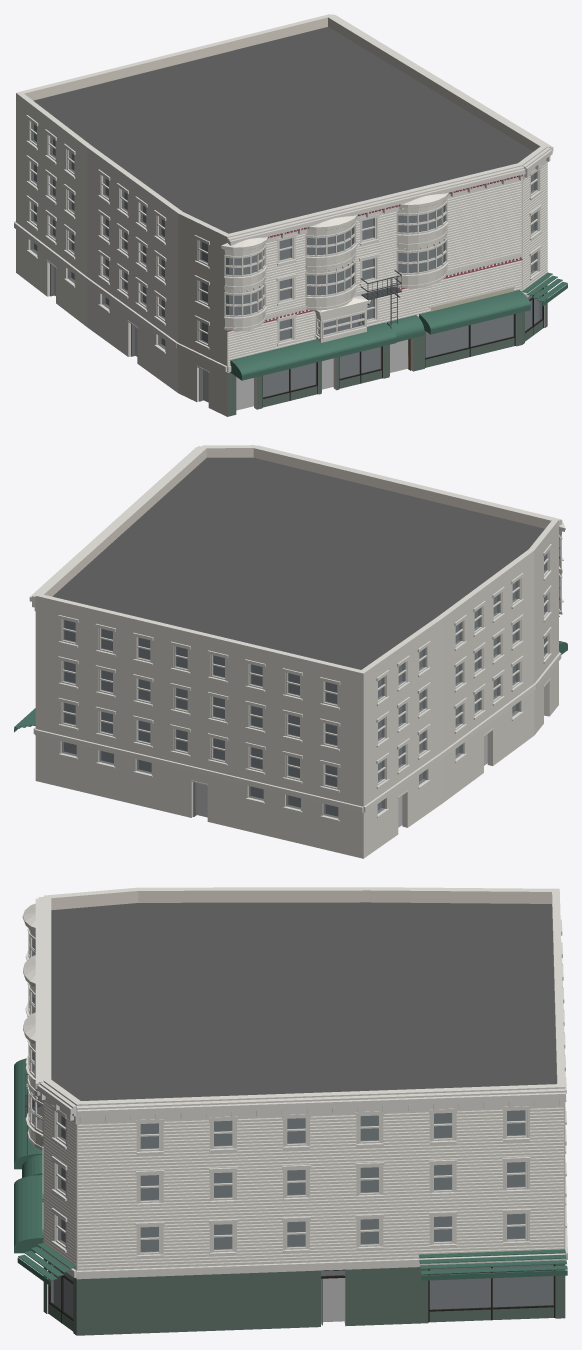
The model's file is exterior.glb.
3 views of the same model, one above another, from view 1: azimuth 30°, elevation 25°; view 2: azimuth 150°, elevation 25°; view 3: azimuth 270°, elevation 25° (orthographic). The views are drawn at different scales.
Visible parts, largest first — view 1: shell, roof, shadow-proxy, trim, hyD-lap-1, glazing, bay-glazing-hyb, bay-windows-hyb, awning-barrel-1.002, frames, storefront, awning-barrel-1 (+5 smaller); view 2: shell, roof, trim, glazing, shadow-proxy, frames; view 3: roof, shell, hyD-lap-3, trim, glazing, shadow-proxy, frames, awning-spans-3, storefront, awning-barrel-1, hyD-lap-2, bay-windows-hyb (+3 smaller).
Boxes of the visible parts, box(x1,y1,x2,y2) form: shell: box(16, 14, 547, 416); roof: box(33, 27, 533, 233); shadow-proxy: box(34, 124, 539, 410); trim: box(14, 14, 553, 372); hyD-lap-1: box(228, 181, 521, 364); glazing: box(30, 122, 542, 397); bay-glazing-hyb: box(224, 201, 448, 338); bay-windows-hyb: box(221, 192, 449, 342); awning-barrel-1.002: box(230, 322, 396, 380); frames: box(29, 120, 538, 345); storefront: box(46, 260, 543, 407); awning-barrel-1: box(419, 289, 530, 334); shell: box(35, 445, 558, 858); roof: box(52, 457, 544, 669); trim: box(29, 445, 562, 821); glazing: box(61, 554, 546, 818); shadow-proxy: box(64, 582, 515, 827); frames: box(61, 551, 548, 789); roof: box(51, 902, 556, 1100); shell: box(43, 887, 565, 1335); hyD-lap-3: box(78, 1107, 563, 1268); trim: box(35, 897, 567, 1278); glazing: box(50, 1110, 553, 1318); shadow-proxy: box(54, 1110, 553, 1322); frames: box(55, 1110, 526, 1254); awning-spans-3: box(418, 1249, 567, 1280); storefront: box(48, 1262, 555, 1331); awning-barrel-1: box(14, 1175, 43, 1253); hyD-lap-2: box(44, 1102, 75, 1264); bay-windows-hyb: box(22, 903, 43, 1150).
Size of the model in its own units: 23.32 by 11.18 by 24.28.
